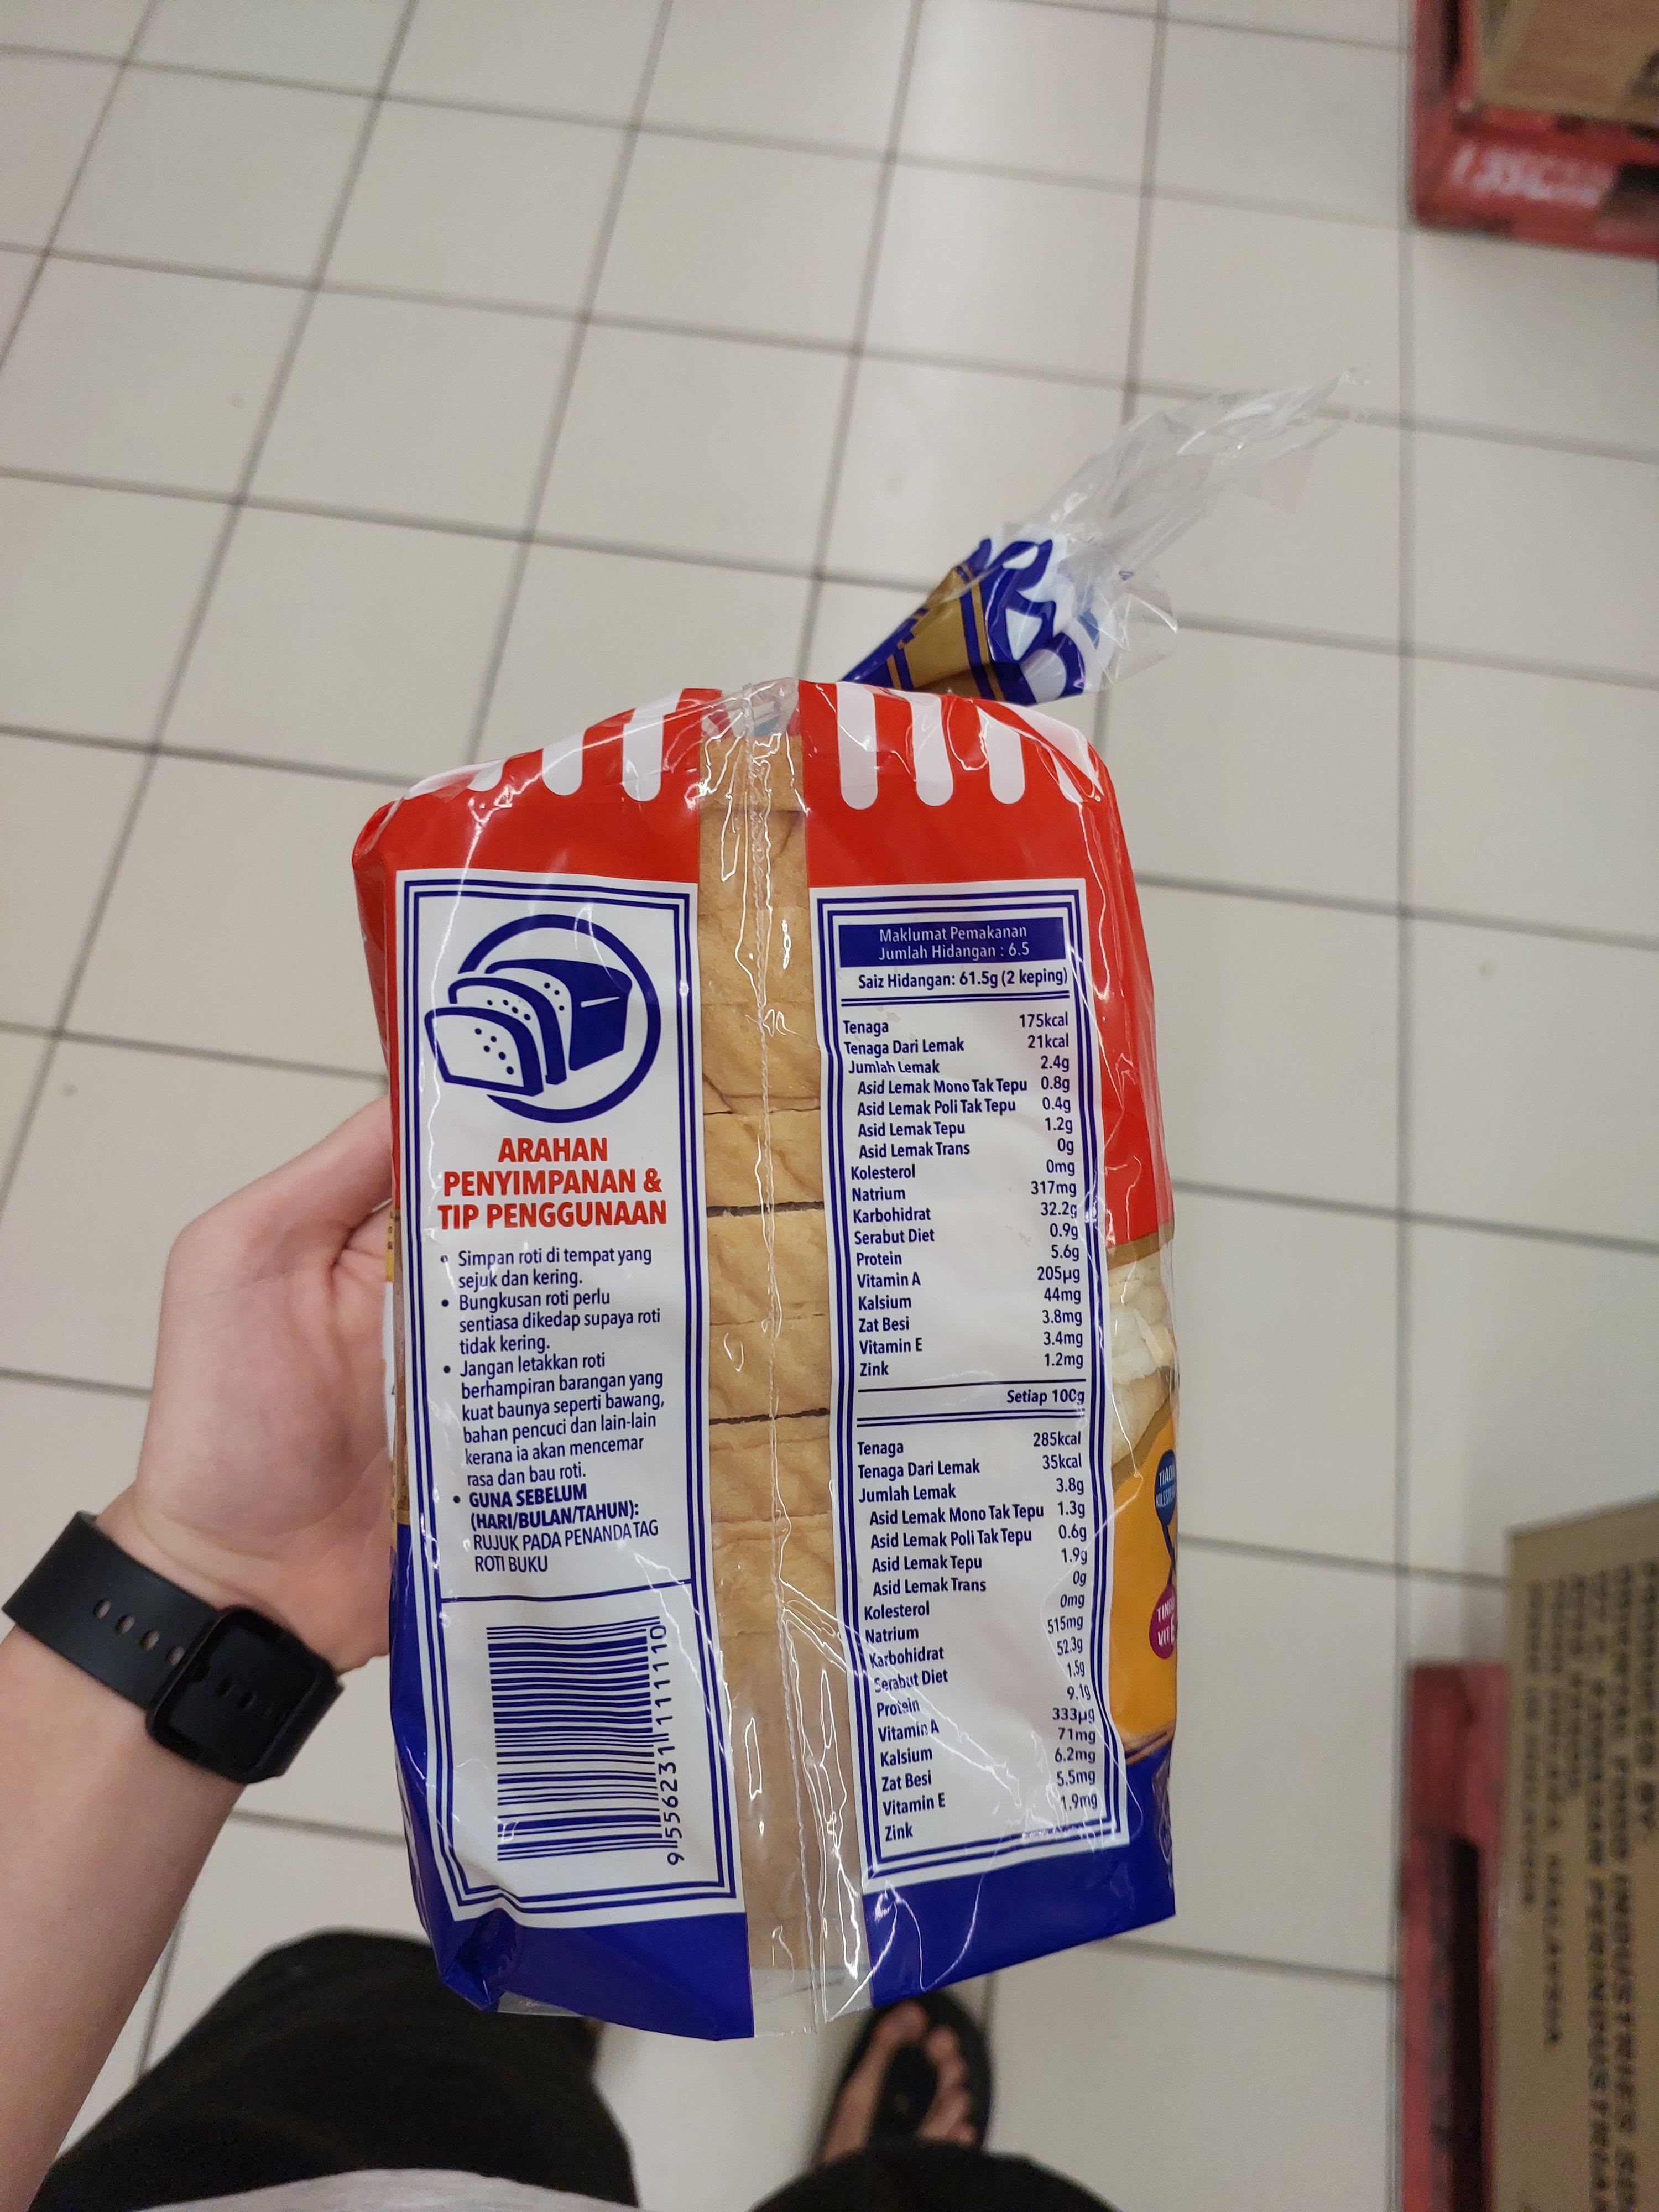bread: (345, 514, 1187, 2040)
